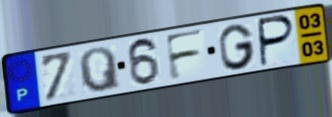6: (126, 35, 164, 90)
7: (40, 49, 75, 104)
F: (162, 27, 206, 83)
G: (217, 22, 257, 71)
P: (258, 13, 297, 69)
Q: (77, 45, 123, 94)
